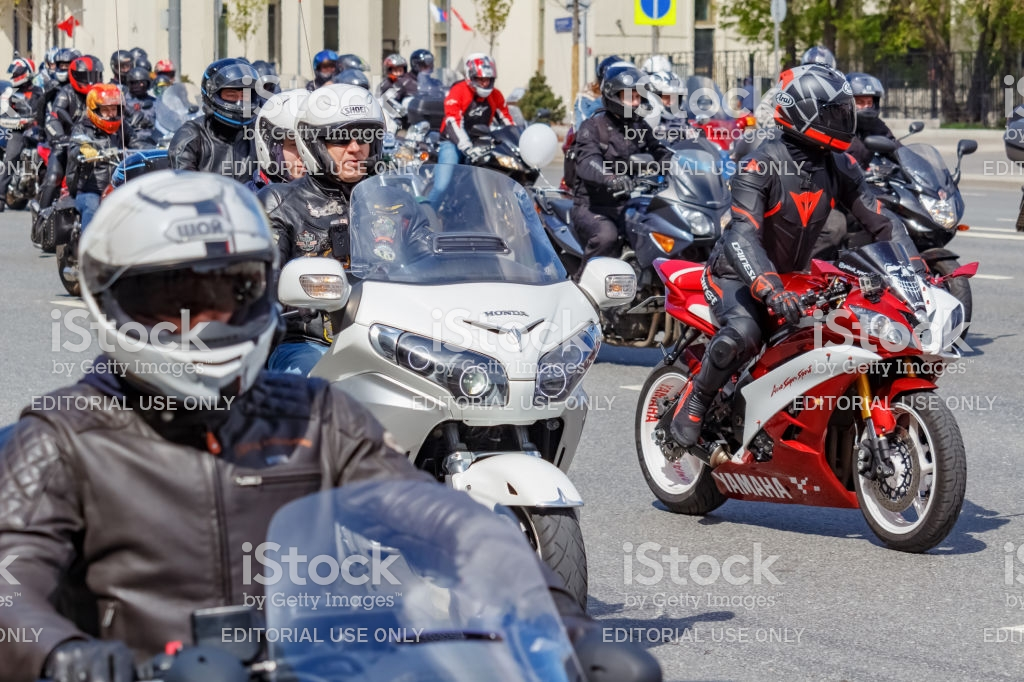helmet: (92, 171, 281, 399), (300, 84, 394, 176), (772, 67, 859, 157), (259, 87, 319, 188), (198, 59, 259, 138), (603, 68, 648, 118), (83, 81, 126, 129), (469, 53, 500, 92)
